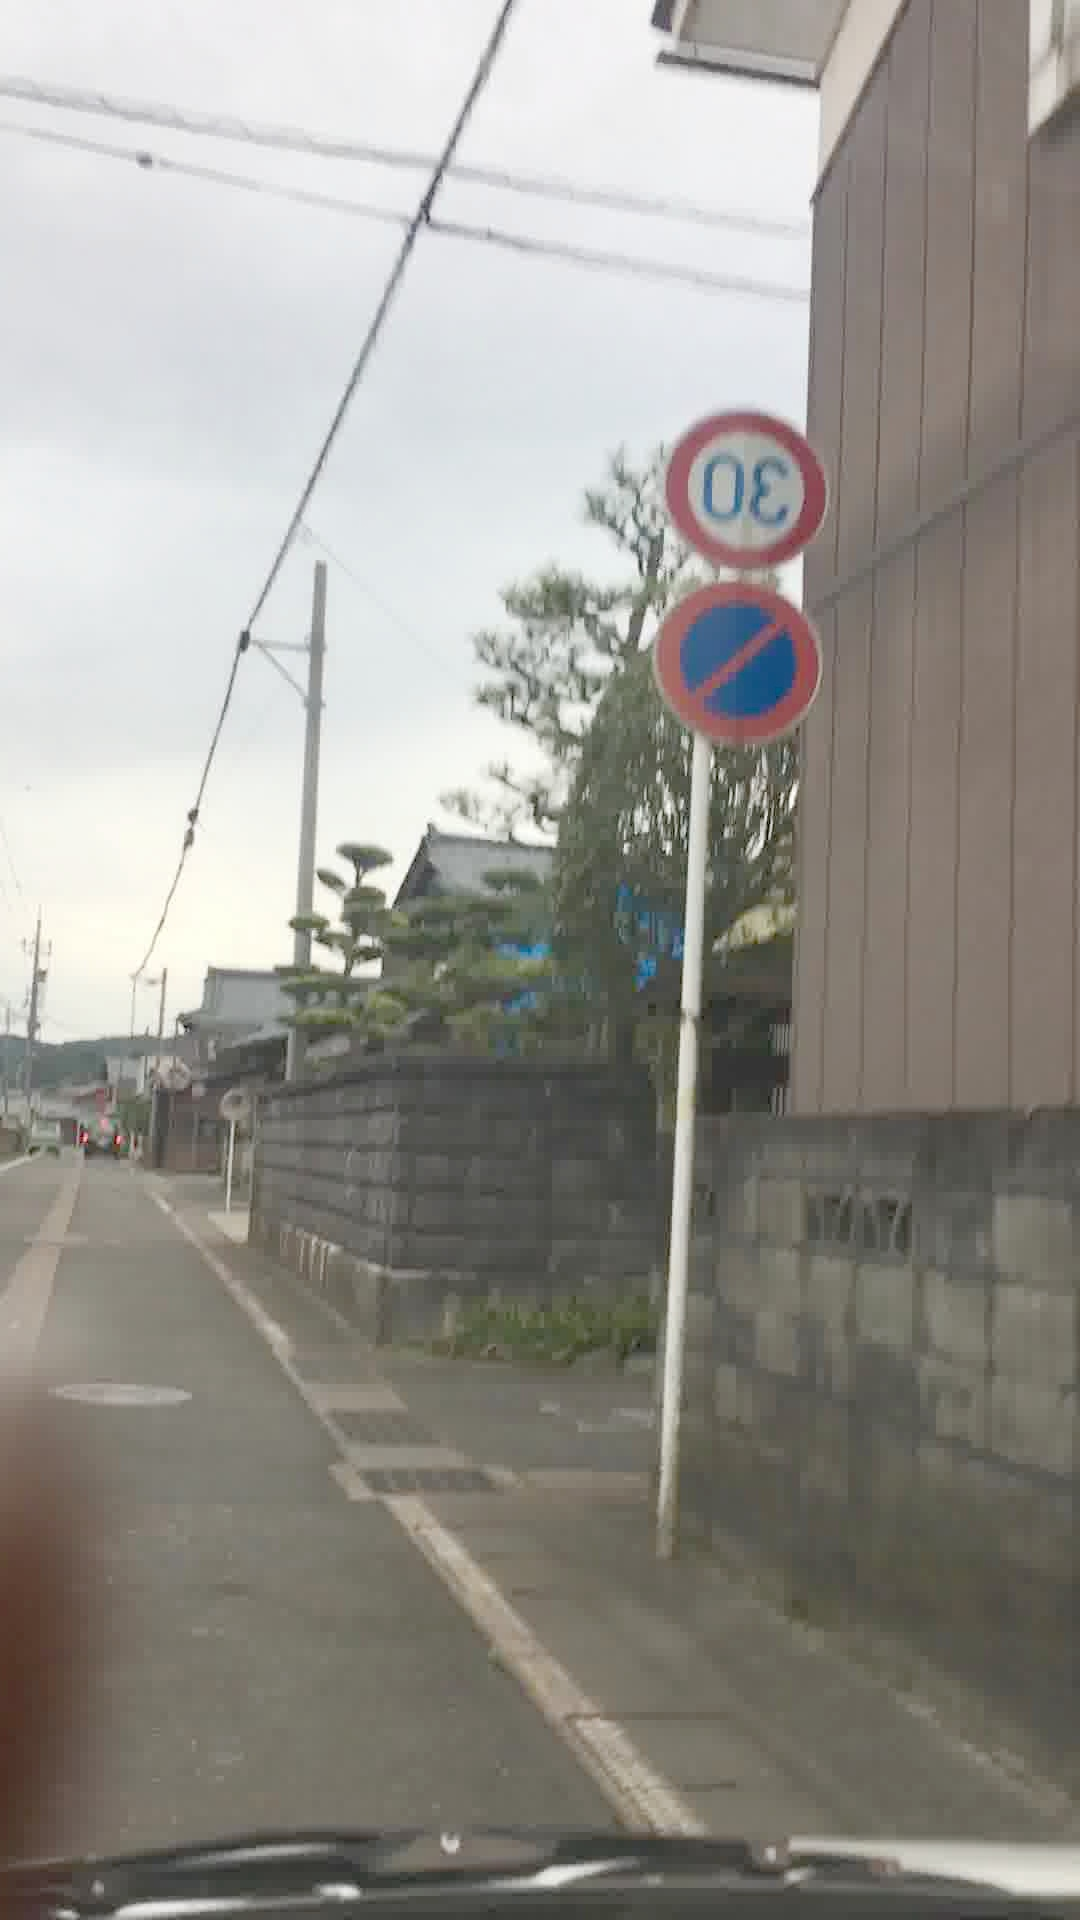Prohibition_sign: (650, 580, 816, 774)
Speed_sign: (669, 398, 852, 597)
